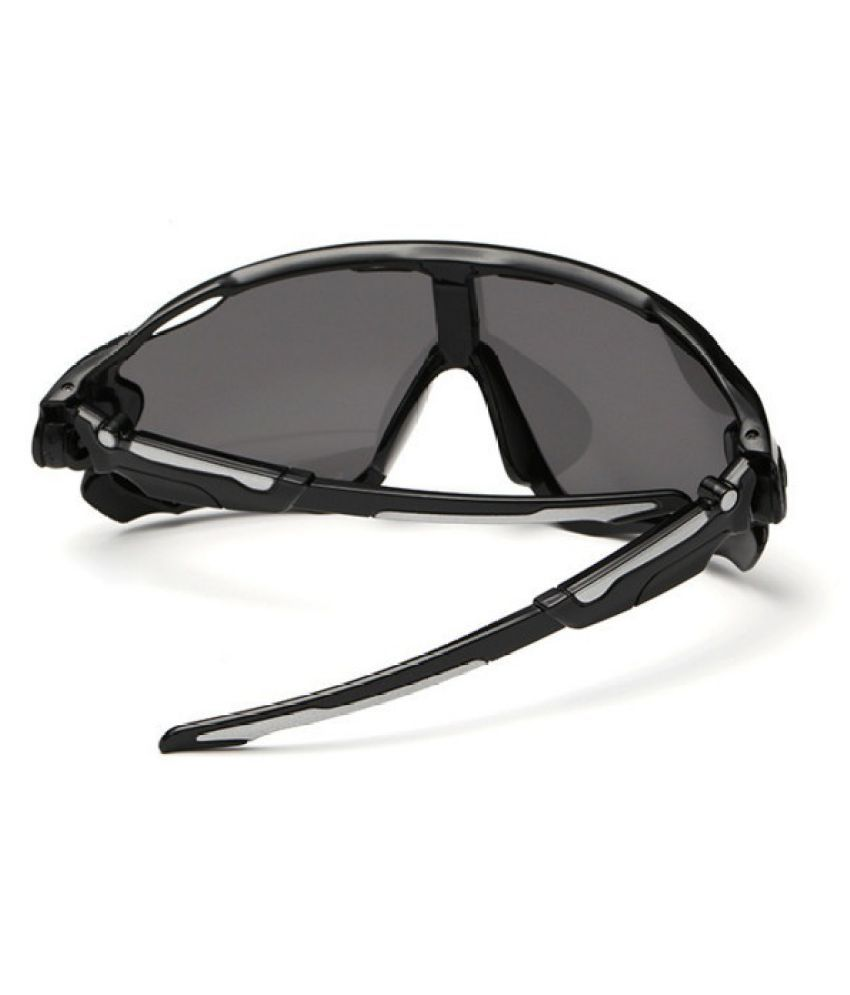sunglasses: (19, 235, 834, 692)
